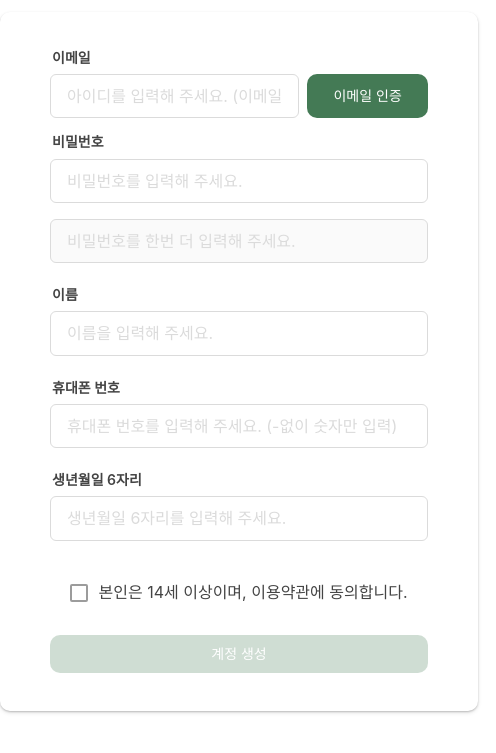
Scenario: JoinForm 컴포넌트 테스트 › 이메일 › 올바른 형식의 이메일을 입력하지 않고 이메일 인증 버튼을 클릭하면 화면에 에러 메시지가 보여야 한다.
This screenshot has width=496, height=753.
Type "example" into the field labelled "이메일" at (175,96), box [50,74,299,118]
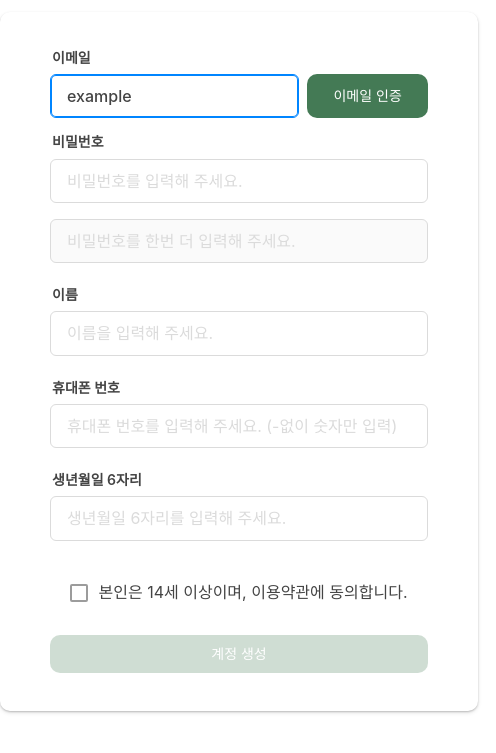
Click the button "이메일 인증" at (368,96), box [307,74,428,118]
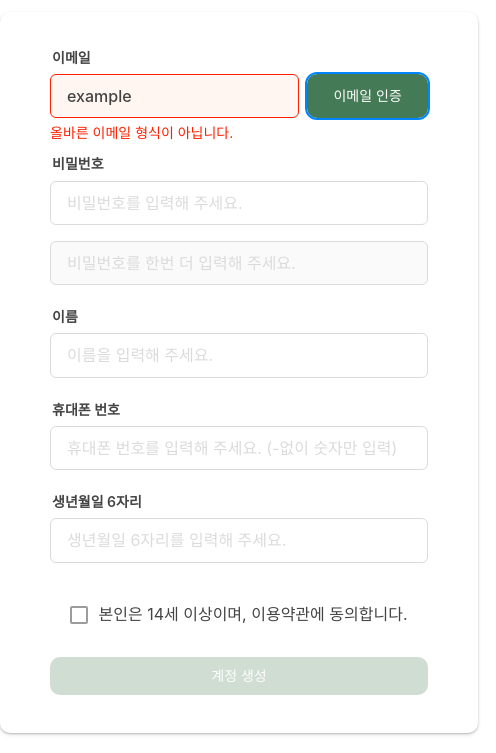
Expected: the text "올바른 이메일 형식이 아닙니다." is shown, [50,124,233,142]
